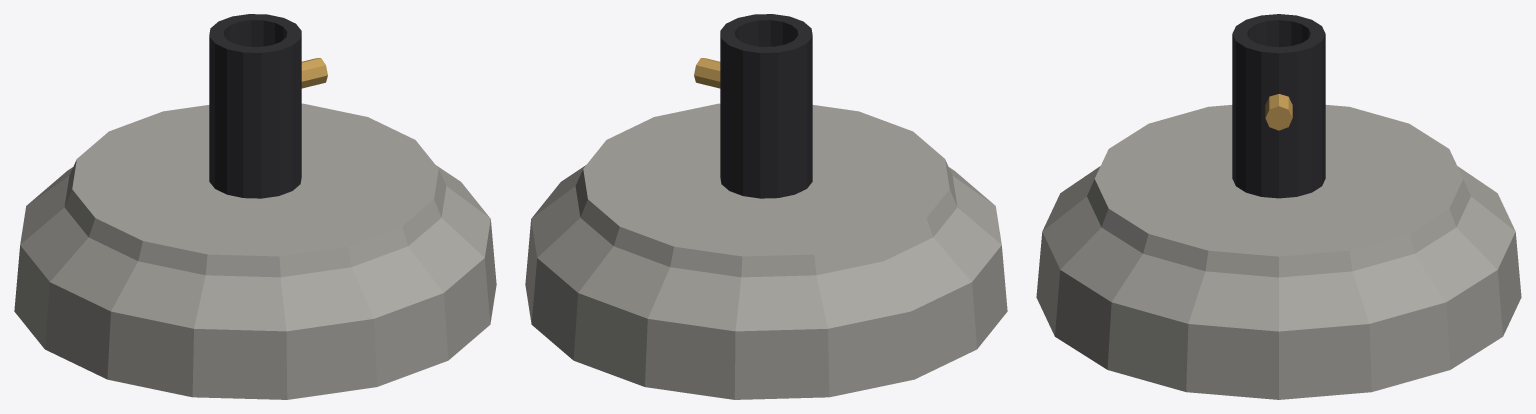
The model's file is FN_Parasol_Base.obj.
3 views of the same model, side by side, from view 1: azimuth 30°, elevation 25°; view 2: azimuth 150°, elevation 25°; view 3: azimuth 270°, elevation 25° (orthographic).
Parts seen in each view (by area): view 1: FN_Parasol_Base; view 2: FN_Parasol_Base; view 3: FN_Parasol_Base.
Part boxes in pixels (bbox=[...]): FN_Parasol_Base: bbox=[14, 14, 496, 399]; FN_Parasol_Base: bbox=[525, 14, 1007, 399]; FN_Parasol_Base: bbox=[1036, 14, 1521, 399].
Bounding box in the file's own units: 0.5 × 0.3 × 0.5.
1 material, 1 textured.
